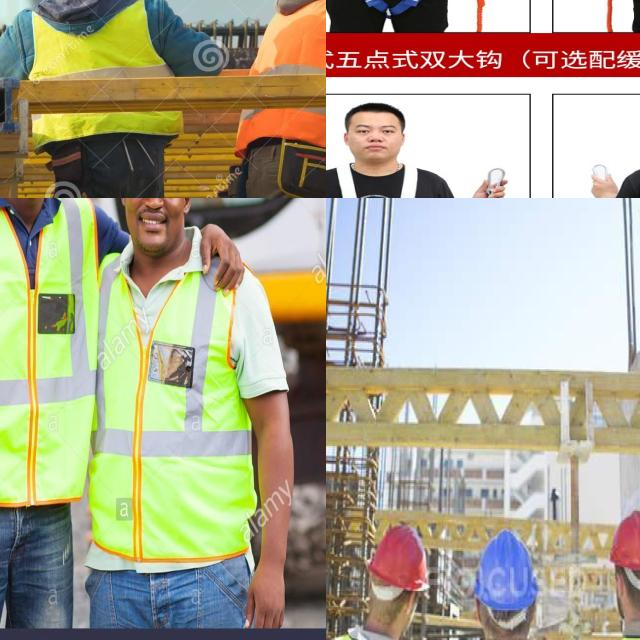Harness: (326, 165, 441, 198)
No_Ear-Protection: (614, 569, 625, 599), (181, 198, 192, 216), (119, 198, 127, 207)
face_nomask: (118, 198, 185, 252)
hand_noglove: (202, 211, 250, 295), (246, 566, 288, 633)
head_helmet: (472, 527, 536, 613), (364, 520, 432, 594), (604, 505, 640, 571)
person: (87, 198, 282, 626), (0, 198, 99, 630), (17, 0, 179, 198), (262, 0, 326, 198), (334, 506, 423, 640), (462, 531, 555, 640)
vest: (84, 241, 243, 561), (0, 198, 89, 499), (20, 1, 189, 135), (265, 0, 326, 153)
